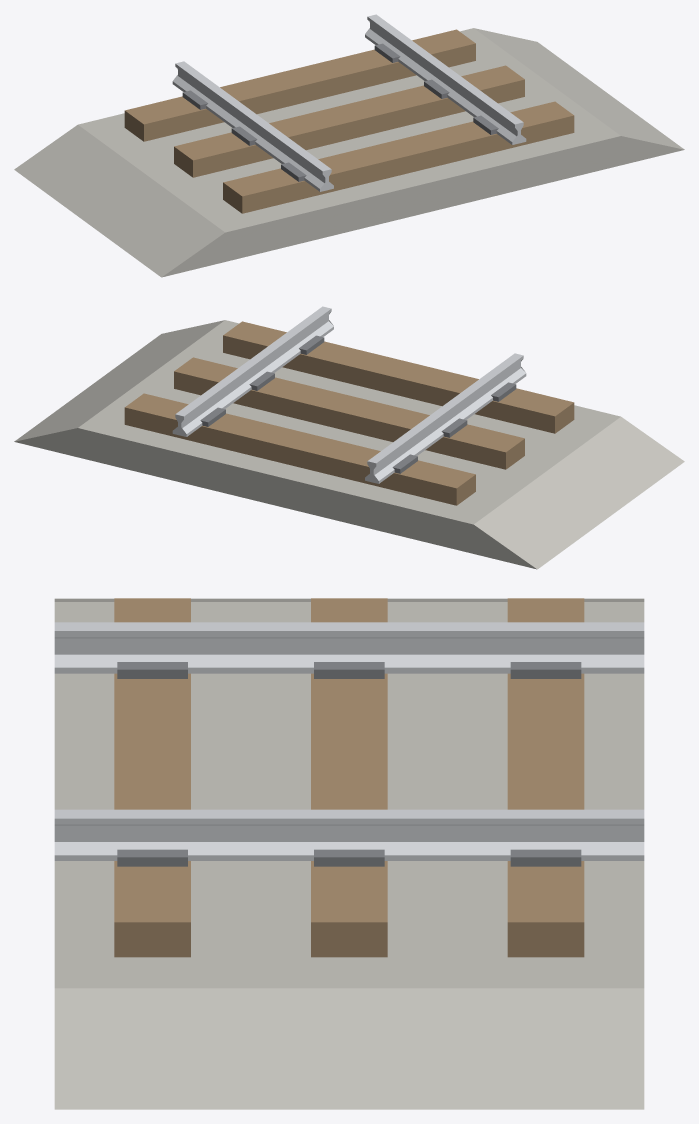
Rendered from steam-era-railway-and-rolling-stock-track-straight-2m-0ee437ce.glb.
3 views of the same model, one above another, from view 1: azimuth 30°, elevation 25°; view 2: azimuth 150°, elevation 25°; view 3: azimuth 270°, elevation 25° (orthographic). The views are drawn at different scales.
Parts seen in each view (by area): view 1: track-straight-2m; view 2: track-straight-2m; view 3: track-straight-2m.
Boxes of the visible parts, <box> form: track-straight-2m: <box>14,14,684,277</box>; track-straight-2m: <box>14,306,684,569</box>; track-straight-2m: <box>54,598,644,1109</box>.
Bounding box in the file's own units: 4.1 × 0.5001 × 2.
